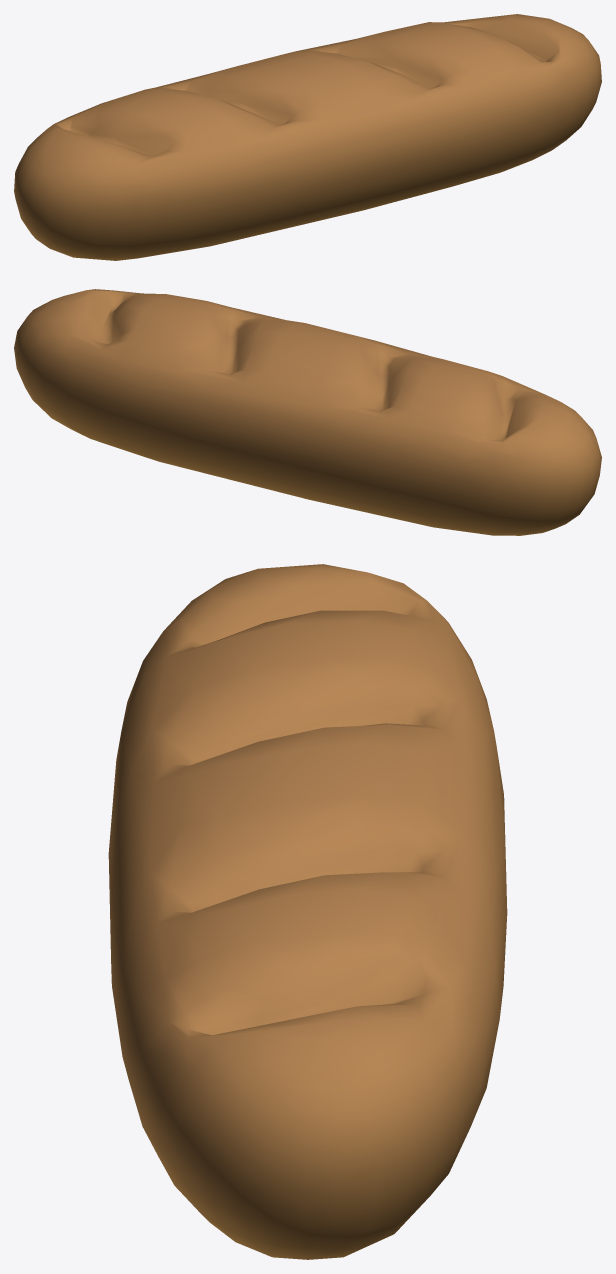
Rendered from bread1.fbx.
The picture shows the model from 3 angles, top to bottom: view 1: azimuth 30°, elevation 25°; view 2: azimuth 150°, elevation 25°; view 3: azimuth 270°, elevation 25°; orthographic projection. The views are drawn at different scales.
Parts seen in each view (by area): view 1: bread1; view 2: bread1; view 3: bread1.
Part boxes in pixels (x1,y1,x2,y2): bread1: [14, 14, 601, 260]; bread1: [14, 289, 601, 535]; bread1: [108, 564, 507, 1259].
Bounding box in the file's own units: 382 × 90.66 × 116.
